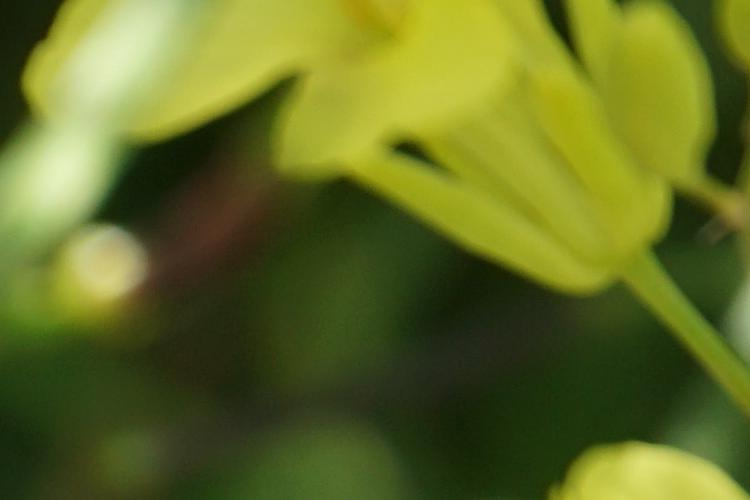yellow: (282, 21, 696, 291)
